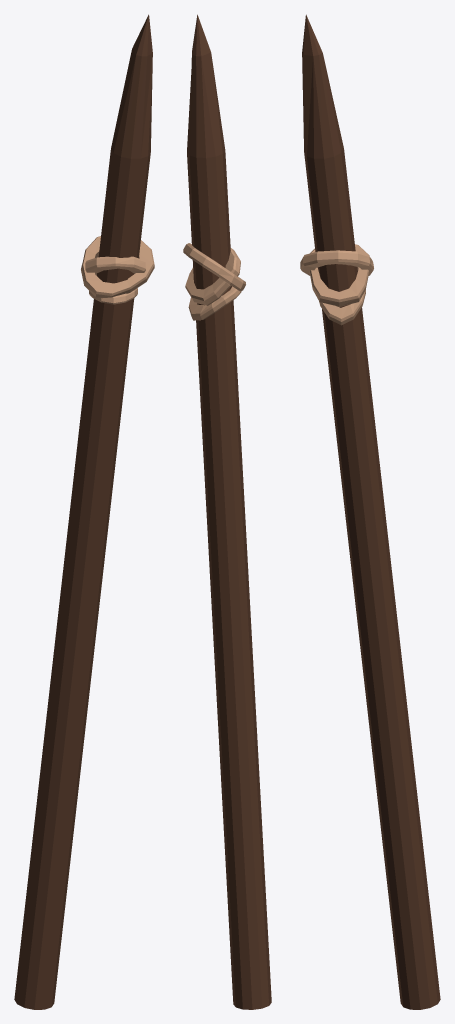
File: SM_roped_spike.fbx
3 renders of one model, left to right at view 1: azimuth 90°, elevation 25°; view 2: azimuth 210°, elevation 25°; view 3: azimuth 270°, elevation 25°, orthographic. The views are drawn at different scales.
Visible parts, largest first — view 1: roped_spike; view 2: roped_spike; view 3: roped_spike.
Part boxes in pixels (<box>): roped_spike: <box>14,14,154,1009</box>; roped_spike: <box>183,14,271,1009</box>; roped_spike: <box>300,14,440,1009</box>.
Size of the model in its own units: 20.54 by 383 by 49.25.
